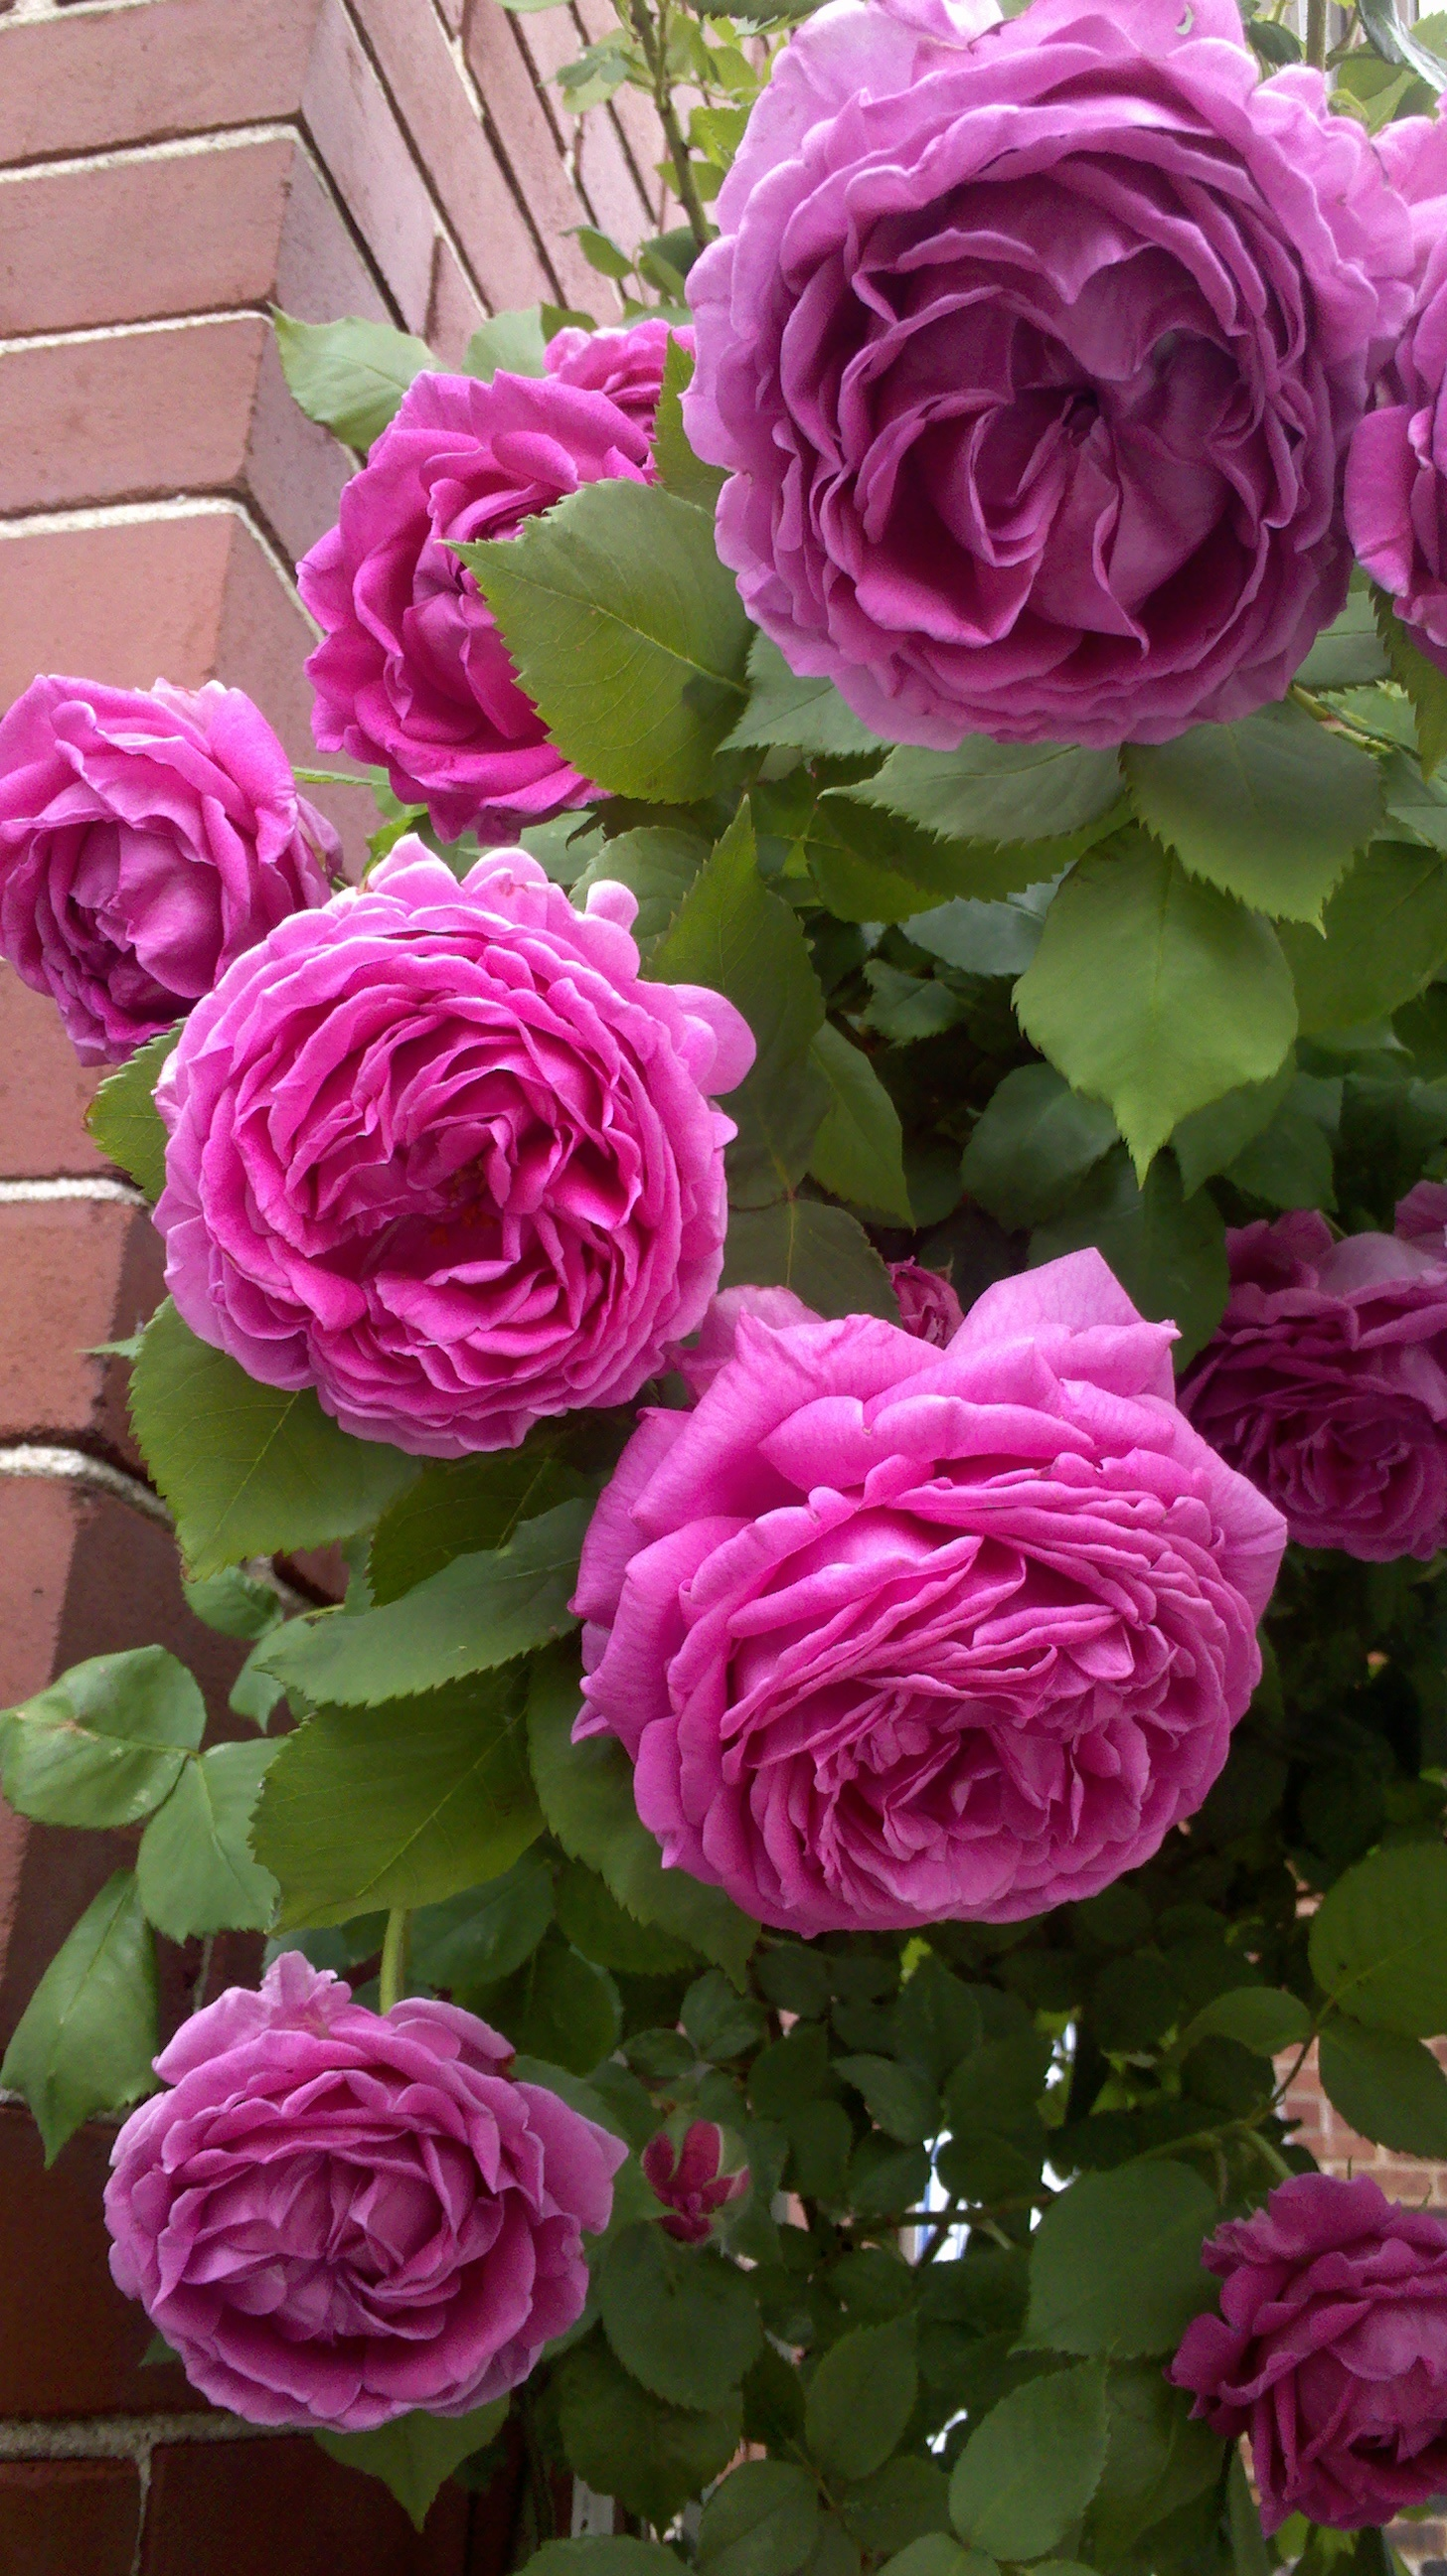Rose: (715, 34, 1339, 715), (646, 1297, 1258, 1943), (175, 886, 693, 1396), (124, 1994, 586, 2422), (313, 356, 678, 793), (5, 685, 313, 1010), (1228, 1194, 1442, 1550), (1219, 2196, 1442, 2438)
